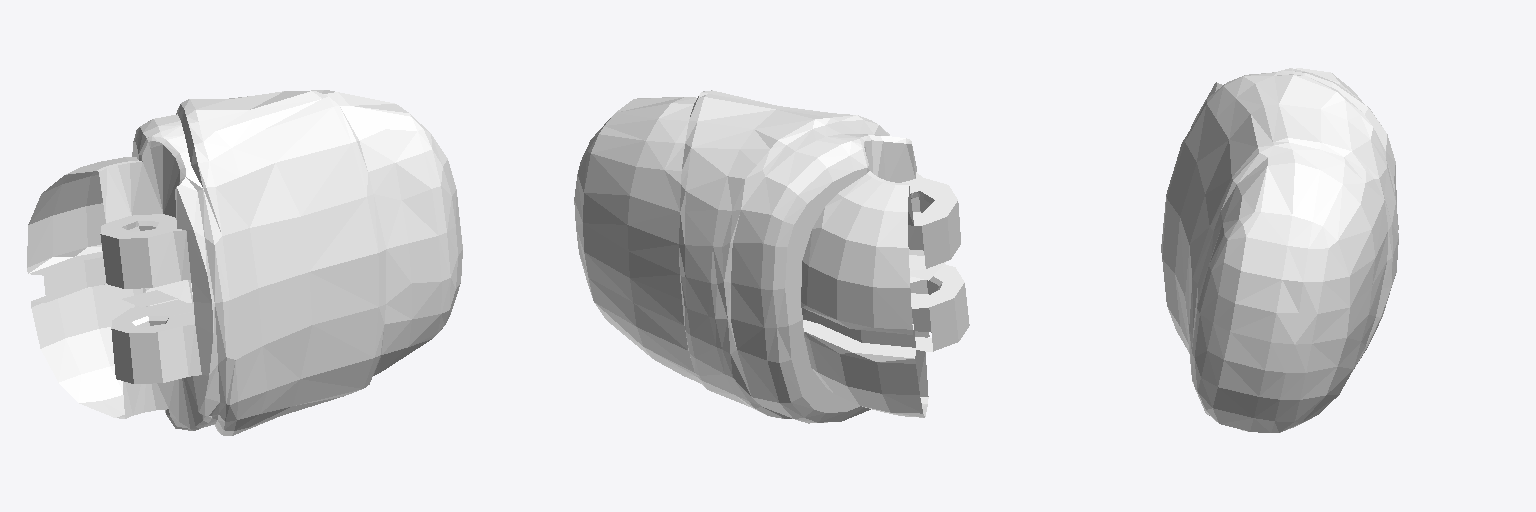
3 renders of one model, left to right at view 1: azimuth 30°, elevation 25°; view 2: azimuth 150°, elevation 25°; view 3: azimuth 270°, elevation 25°, orthographic.
Parts seen in each view (by area): view 1: RFinger13_RPhalax_3; view 2: RFinger13_RPhalax_3; view 3: RFinger13_RPhalax_3.
Part boxes in pixels (left/top/right/bottom): RFinger13_RPhalax_3: left=27, top=90, right=462, bottom=435; RFinger13_RPhalax_3: left=574, top=90, right=969, bottom=423; RFinger13_RPhalax_3: left=1161, top=68, right=1398, bottom=432.
Bounding box in the file's own units: 0.204 × 0.1613 × 0.1124.
1 materials, 1 textured.